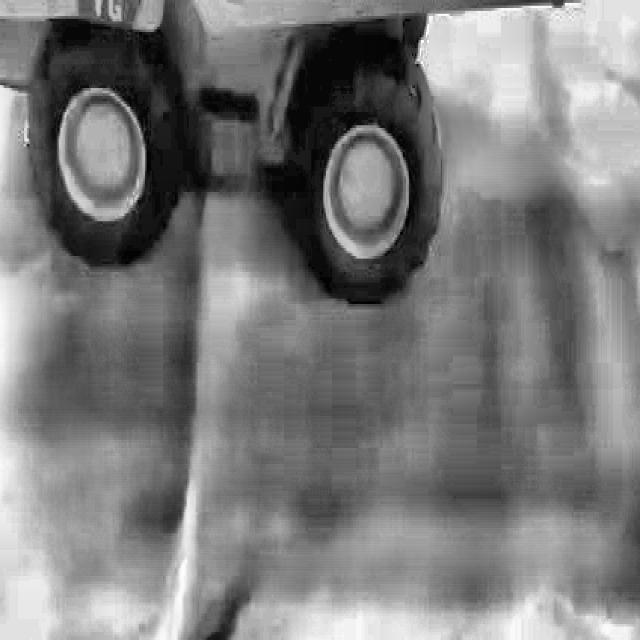dump_truck: (0, 0, 608, 304)
